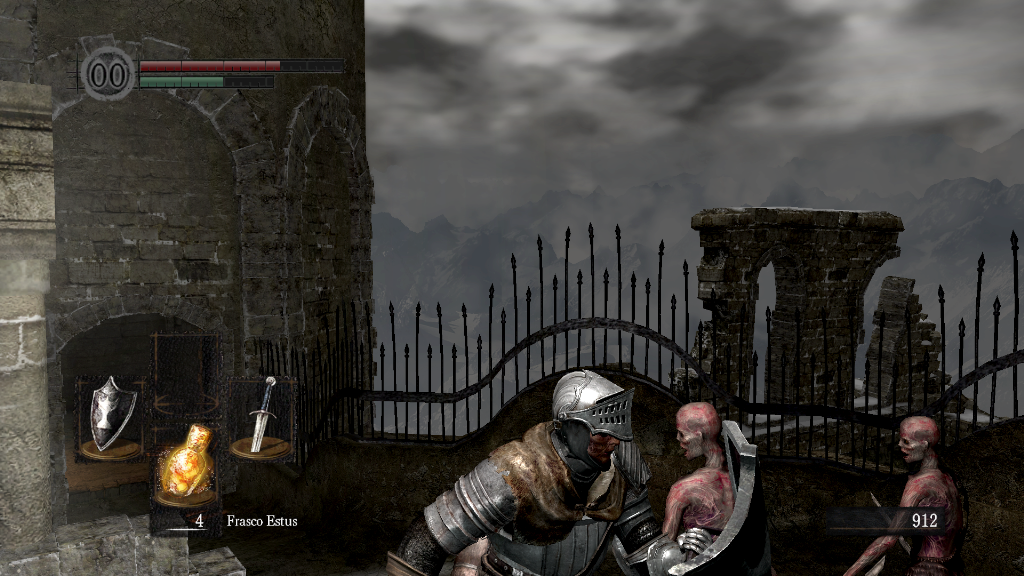health: (138, 58, 343, 71)
hollow: (834, 419, 970, 576), (660, 390, 738, 576)
humanity: (80, 45, 136, 102)
player: (380, 371, 771, 576)
souls: (825, 506, 945, 536)
stamina: (138, 74, 274, 88)
